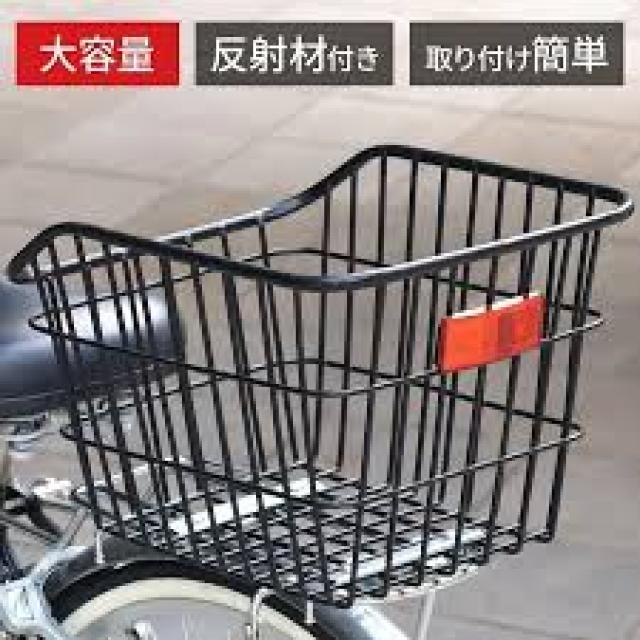basket: (6, 143, 632, 609)
